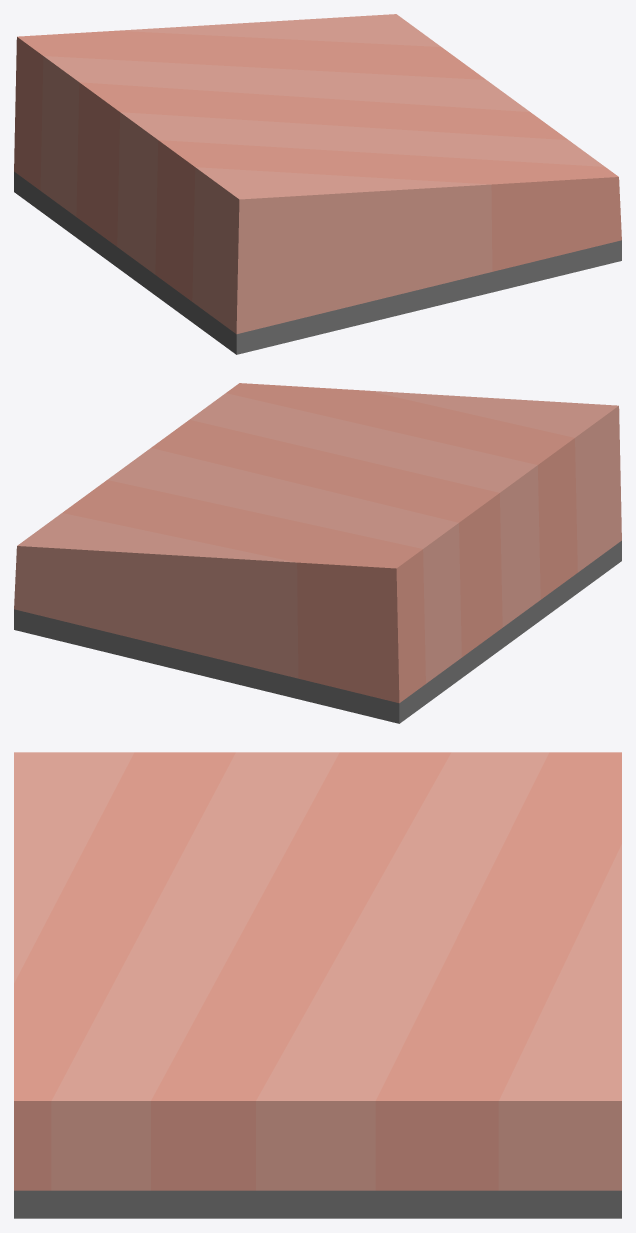
The model's file is Fish.fbx.
3 renders of one model, top to bottom at view 1: azimuth 30°, elevation 25°; view 2: azimuth 150°, elevation 25°; view 3: azimuth 270°, elevation 25°, orthographic. The views are drawn at different scales.
Visible parts, largest first — view 1: Fish; view 2: Fish; view 3: Fish.
Boxes of the visible parts, <box> form: Fish: <box>14,14,621,354</box>; Fish: <box>14,383,621,723</box>; Fish: <box>14,752,621,1218</box>.
Size of the model in its own units: 0.1342 by 0.1342 by 0.0515.
